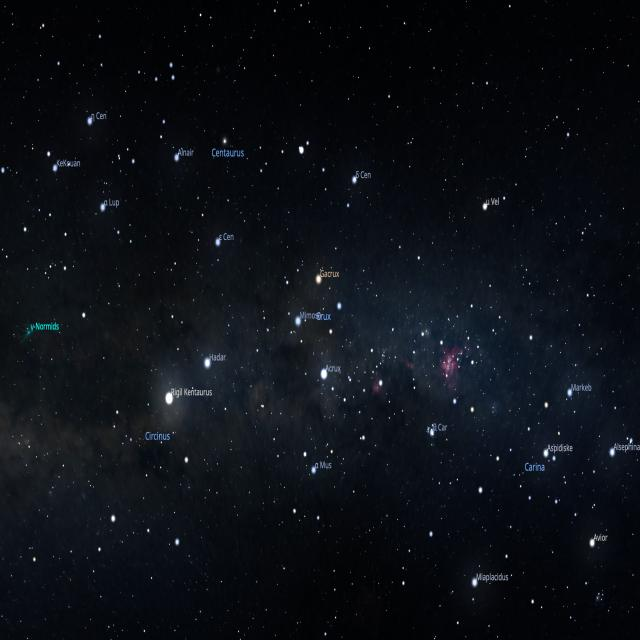Crux: (292, 266, 344, 386)
